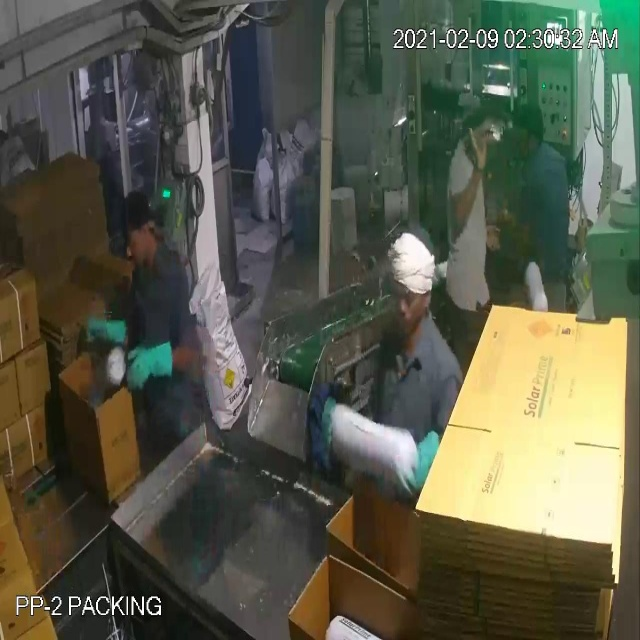Guantes: (123, 340, 198, 390), (404, 424, 451, 501), (78, 309, 130, 359)
Sin_guantes: (450, 112, 493, 243)
